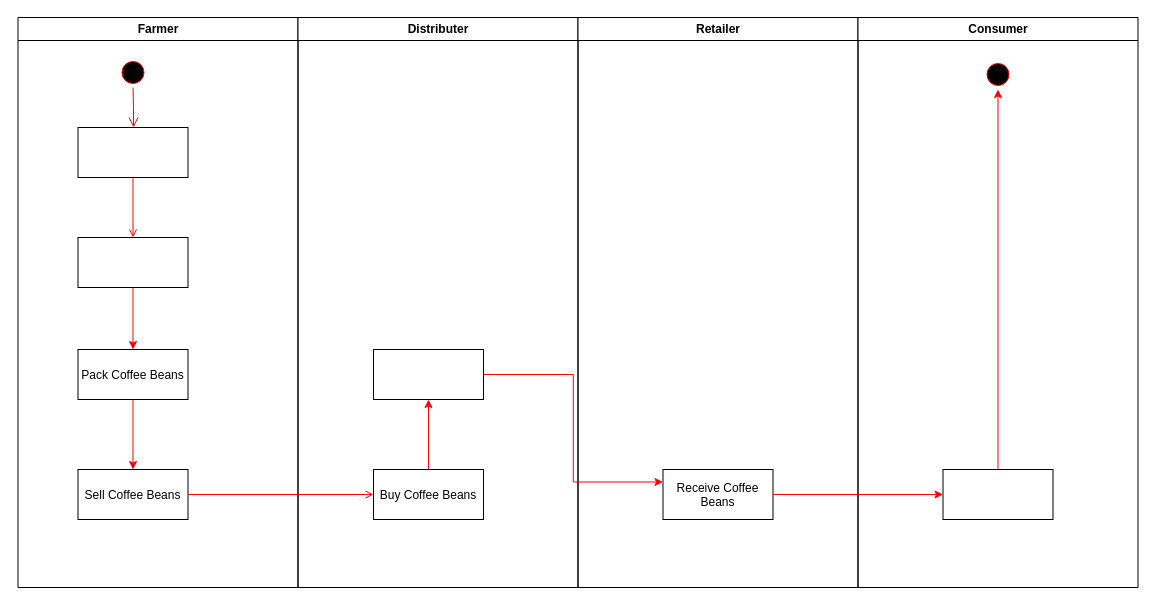
Some shapes in this 1155 by 605 pixel diagram are drawn without their labels. The box of each missing label's shape, as (x1, y1, x2, y2) in pixels:
Harvest Coffee Beans: (77, 126, 188, 178)
Process Coffee Beans: (77, 236, 188, 288)
Purchase Coffee Beans: (942, 468, 1053, 520)
Ship Coffee Beans: (372, 348, 484, 400)
